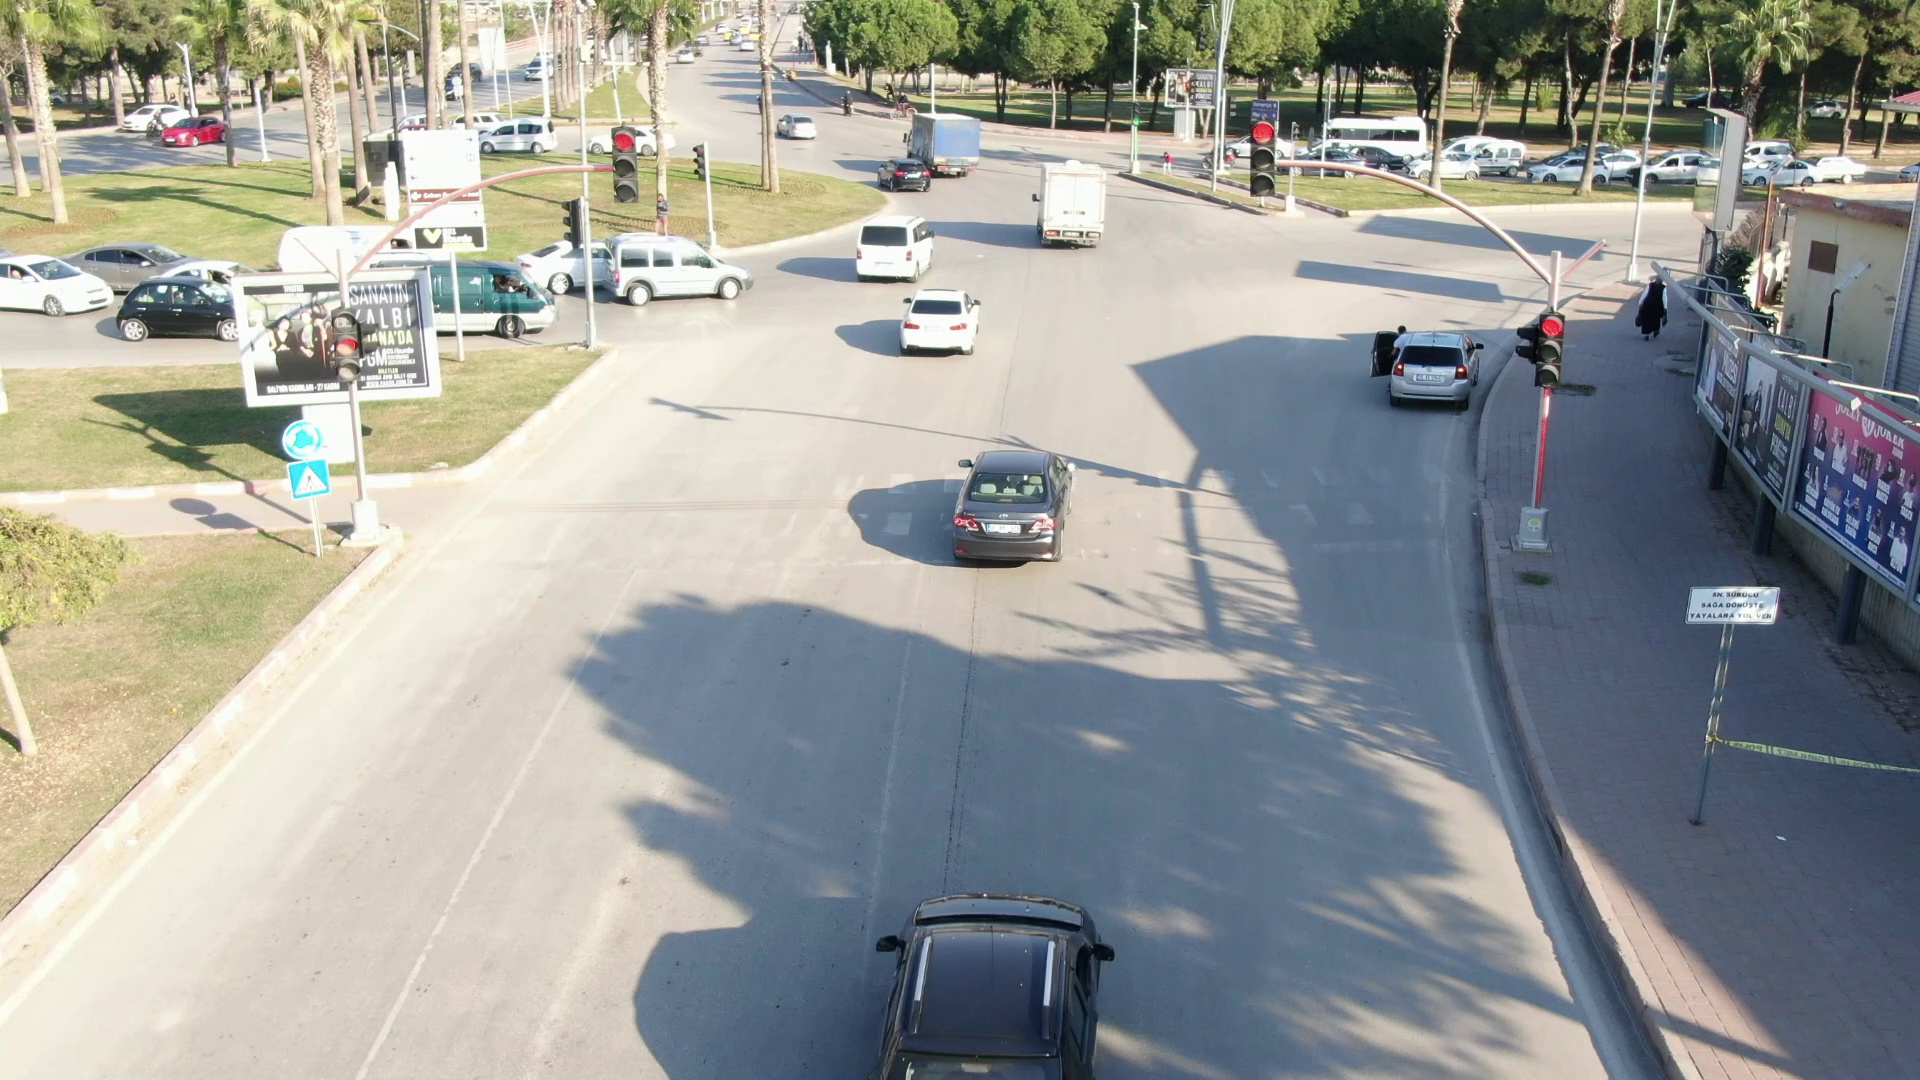car: (839, 880, 1164, 1080), (935, 435, 1107, 573), (596, 226, 763, 311), (105, 267, 246, 354), (883, 281, 1014, 361), (1018, 153, 1119, 252), (1380, 332, 1494, 419), (847, 203, 948, 297), (868, 154, 946, 200)
person: (1624, 267, 1675, 354)
